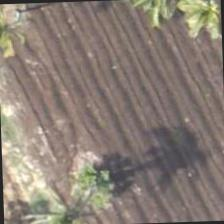Kelapa_Sawit: (48, 131, 142, 223), (22, 165, 116, 223)
